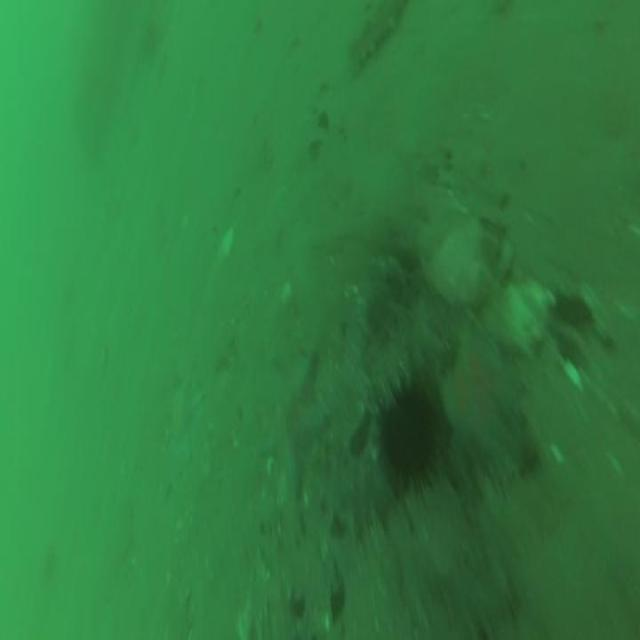echinus: (382, 386, 436, 482)
holothurian: (358, 297, 438, 417), (327, 455, 391, 533), (348, 0, 404, 79)
starfish: (442, 333, 524, 468), (259, 357, 326, 493)
